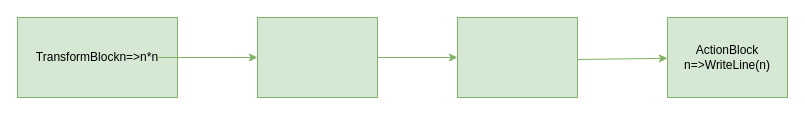
The diagram is 805 pixels wide and 115 high, and some of its shapes have lost their labels. Here are the shapes that lost their labels. From the top down, the centre of each, then its label:
At point 317,57: "TransformBlock n=>2*n".
At point 517,57: "TransformBlock n=>n+1".
